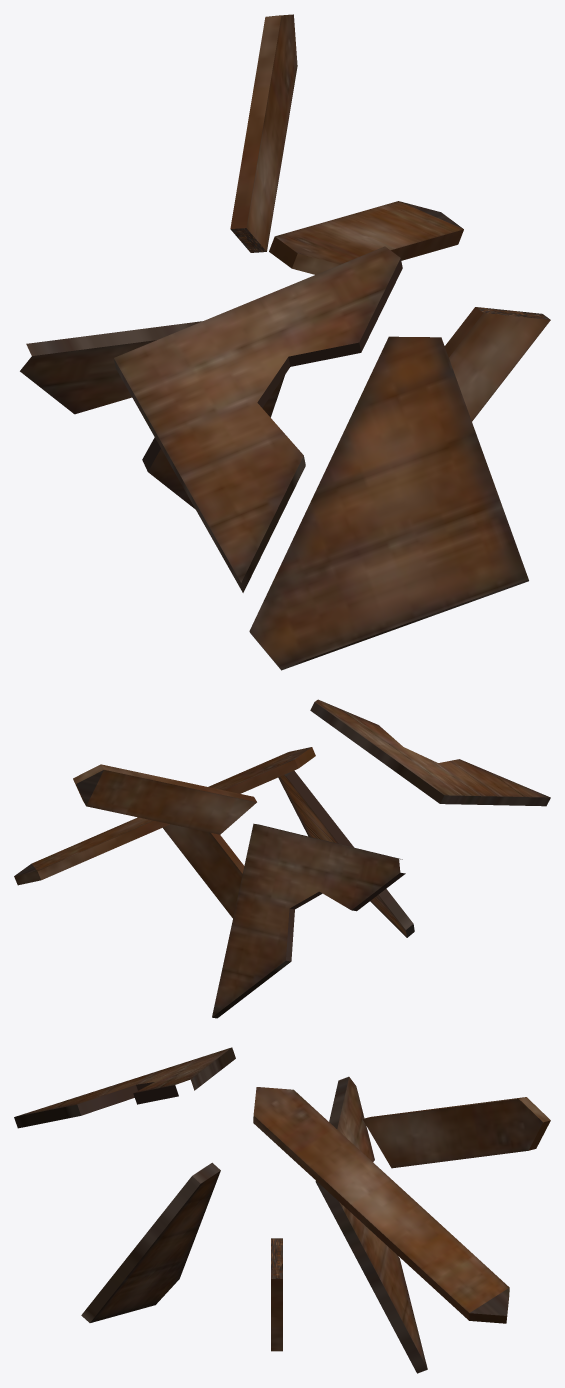
The picture shows the model from 3 angles, top to bottom: view 1: azimuth 30°, elevation 25°; view 2: azimuth 150°, elevation 25°; view 3: azimuth 270°, elevation 25°; orthographic projection. The views are drawn at different scales.
Parts seen in each view (by area): view 1: cratepieces; view 2: cratepieces; view 3: cratepieces.
Boxes of the visible parts, left/top/right/bottom form: cratepieces: left=20, top=14, right=550, bottom=670; cratepieces: left=14, top=699, right=550, bottom=1018; cratepieces: left=14, top=1047, right=550, bottom=1373.
Bounding box in the file's own units: 1.16 × 0.9 × 1.38.
Materials: 1 (1 with a texture image).
